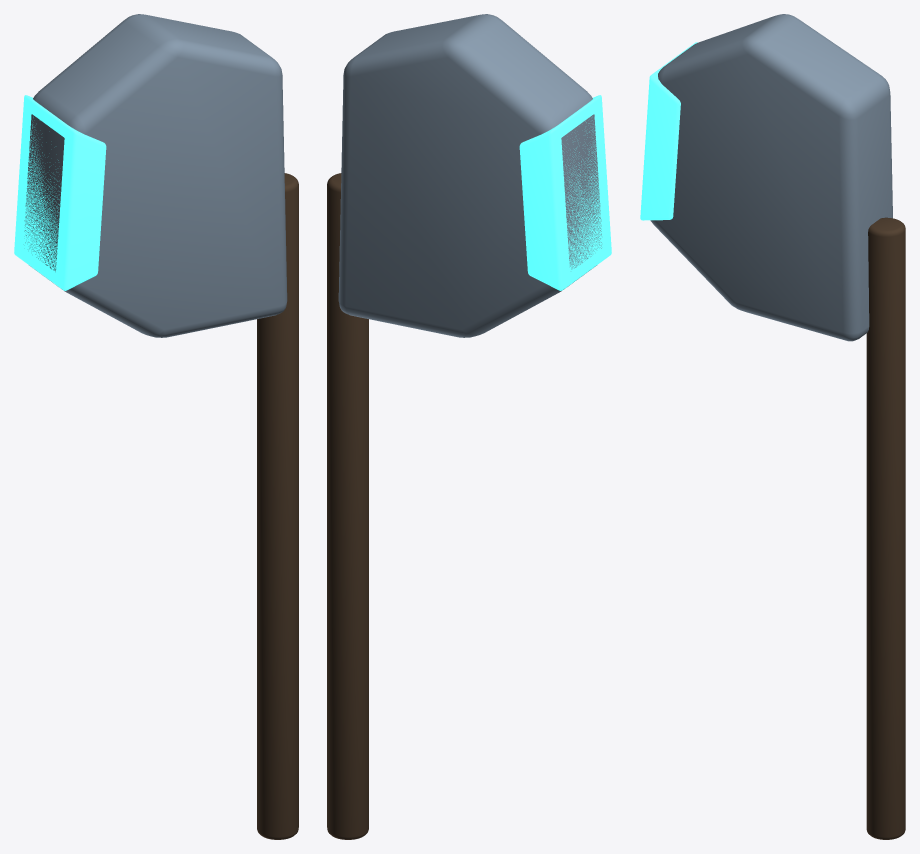
Rendered from axe_v7.glb.
The picture shows the model from 3 angles, left to right: view 1: azimuth 30°, elevation 25°; view 2: azimuth 150°, elevation 25°; view 3: azimuth 330°, elevation 25°; orthographic projection. The views are drawn at different scales.
Parts seen in each view (by area): view 1: EXECUTIONER_HEAD_PRIMARY, AXE_HAFT_SECONDARY, EXECUTIONER_EDGE_EMISSIVE; view 2: EXECUTIONER_HEAD_PRIMARY, AXE_HAFT_SECONDARY, EXECUTIONER_EDGE_EMISSIVE; view 3: EXECUTIONER_HEAD_PRIMARY, AXE_HAFT_SECONDARY, EXECUTIONER_EDGE_EMISSIVE.
Part boxes in pixels (x1,y1,x2,y2): EXECUTIONER_HEAD_PRIMARY: (24, 14, 287, 337); AXE_HAFT_SECONDARY: (257, 173, 298, 839); EXECUTIONER_EDGE_EMISSIVE: (14, 95, 106, 290); EXECUTIONER_HEAD_PRIMARY: (338, 14, 601, 337); AXE_HAFT_SECONDARY: (327, 173, 368, 839); EXECUTIONER_EDGE_EMISSIVE: (519, 95, 611, 290); EXECUTIONER_HEAD_PRIMARY: (650, 14, 892, 341); AXE_HAFT_SECONDARY: (866, 217, 905, 839); EXECUTIONER_EDGE_EMISSIVE: (640, 42, 697, 220).
Bounding box in the file's own units: 1.48 × 4.6 × 0.52.
